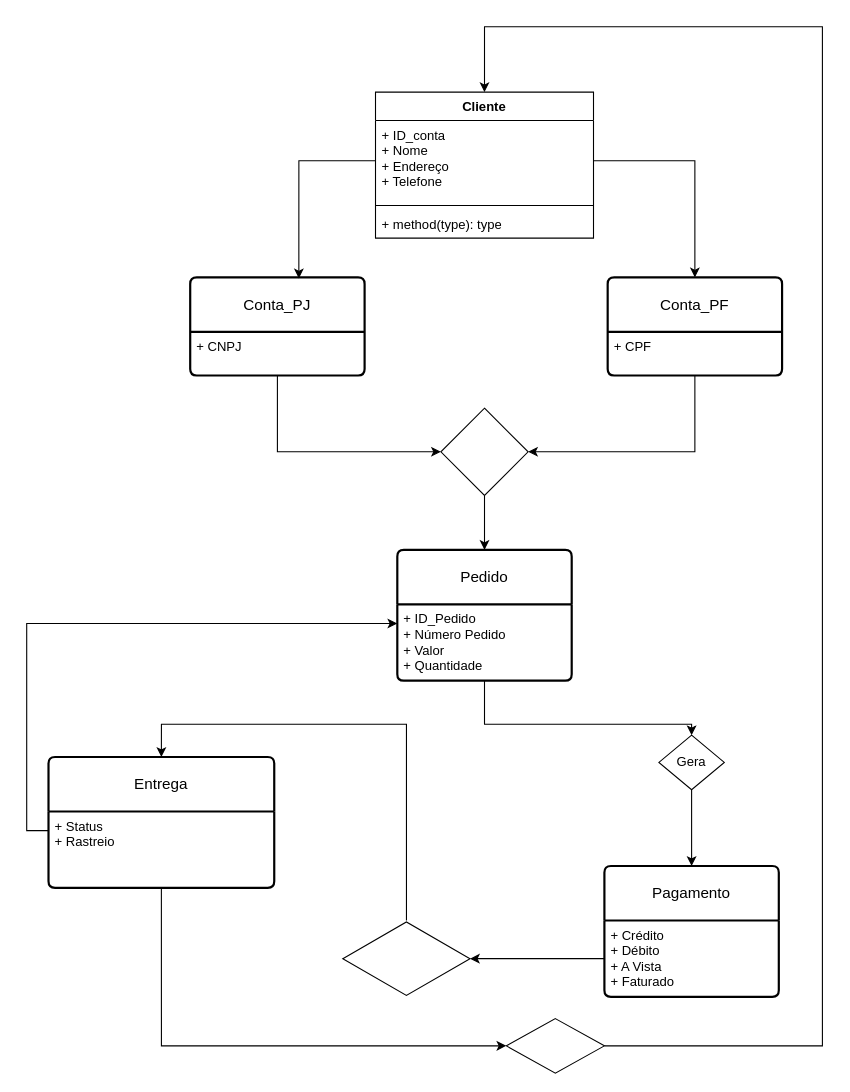
Image size: 850x1092. Some labels were removed from this diagram. The shapes that lost their labels are listed below. From the top down, each one's centre as x and y in pixels, then its label:
At point (484, 451): "Faz".
At point (406, 958): "Resulta".
At point (554, 1045): "Acompanha".
